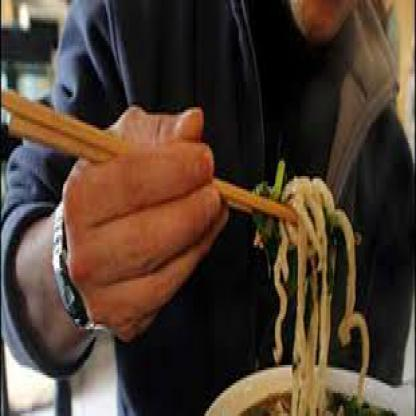chopstick: (1, 87, 361, 245), (8, 112, 332, 256)
